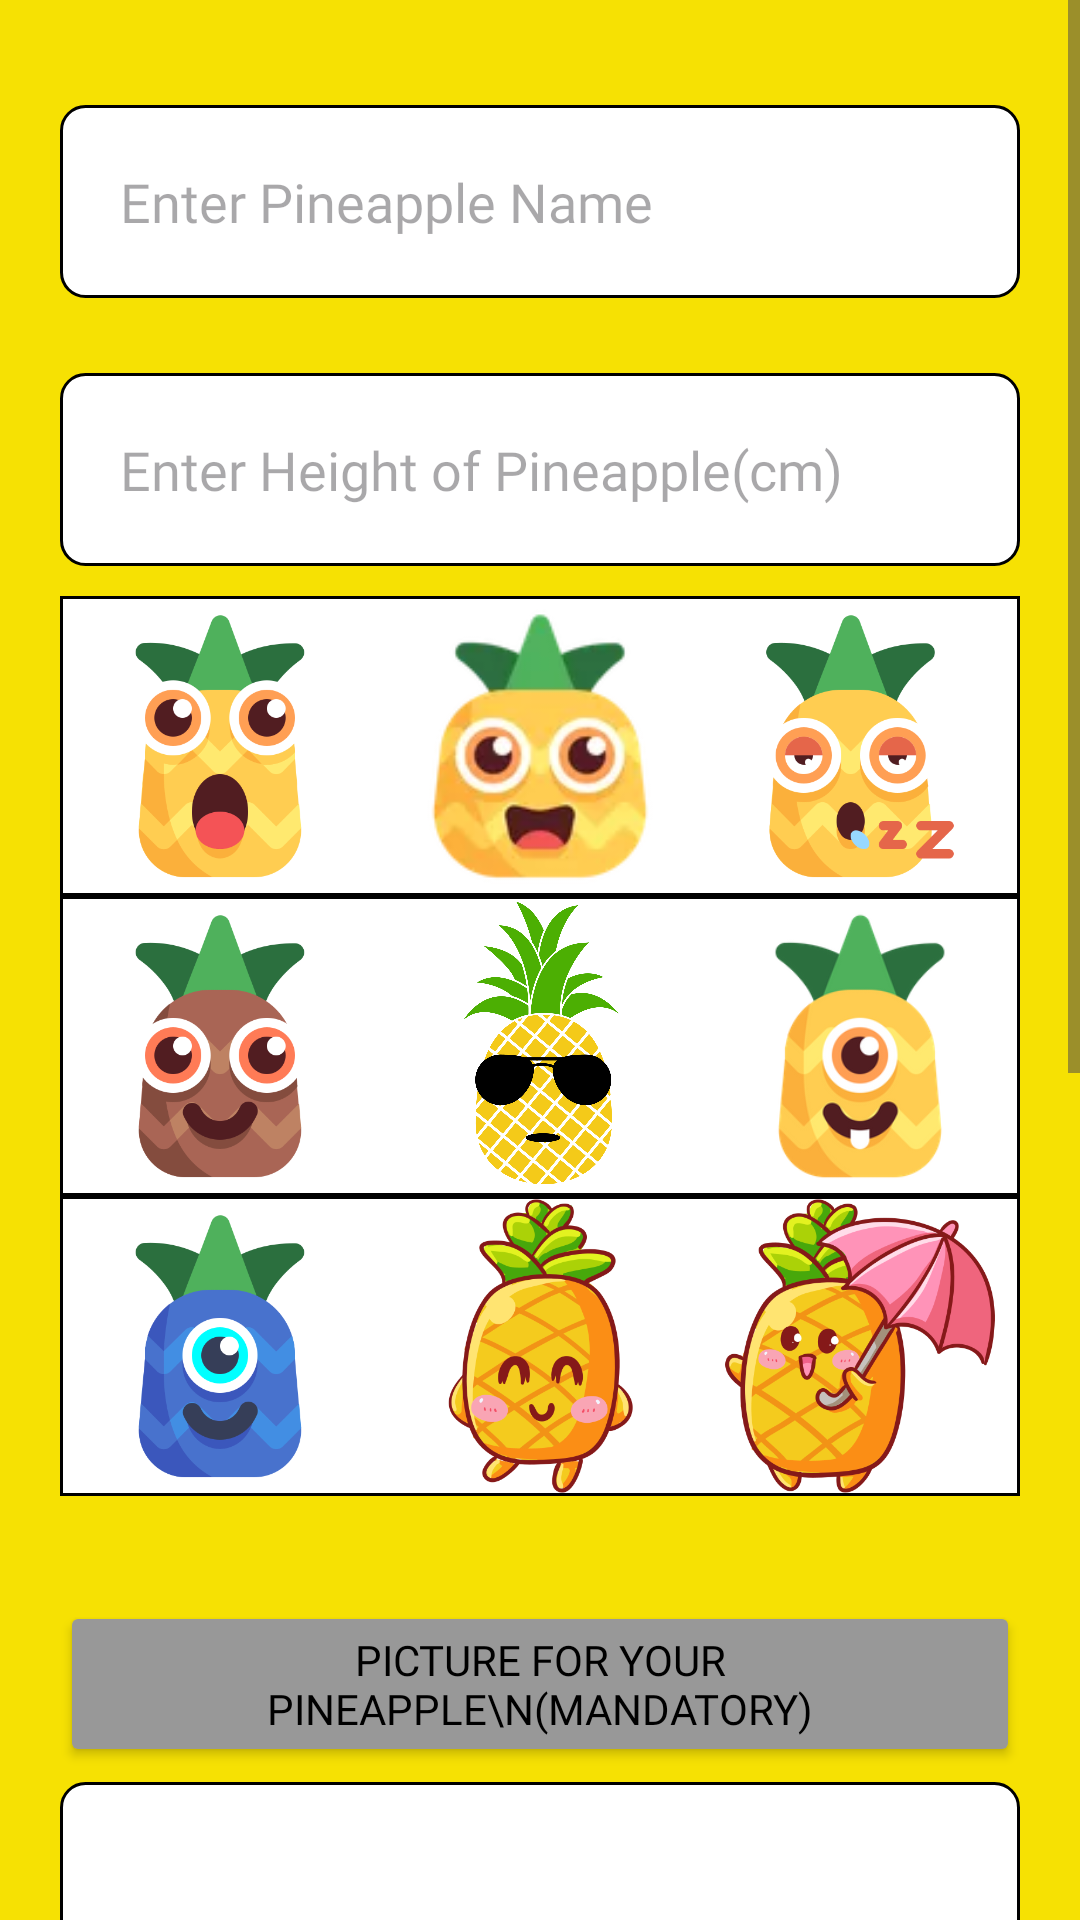

Screen size 1080 × 1920. Icon name, then its center in pixels as point (x, y):
fivecooly: point (541, 1043)
fourbrowny: point (220, 1046)
sevenalien: point (220, 1346)
sixalien: point (860, 1046)
threelazy: point (860, 746)
twofatty: point (540, 746)
